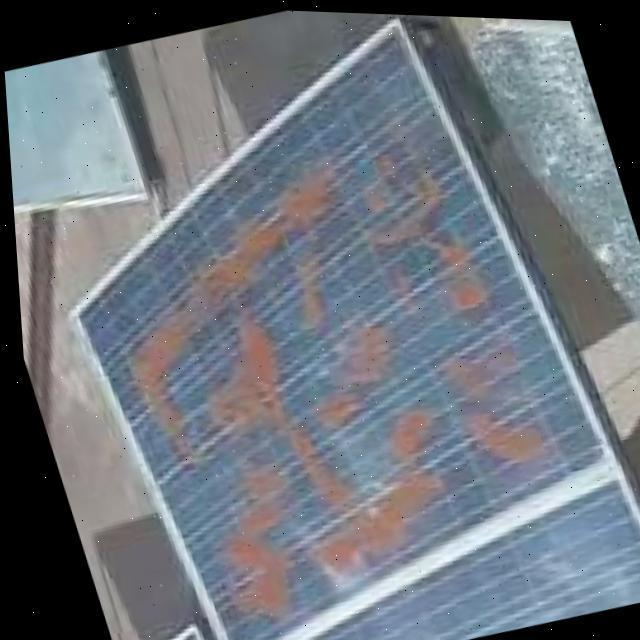Anomaly Solar Panel: (12, 18, 640, 640)
Snow: (501, 512, 638, 624), (372, 626, 438, 640)
Surface Contaminant: (91, 144, 400, 466), (163, 309, 347, 535), (329, 140, 494, 343), (293, 447, 447, 587), (427, 324, 553, 467), (206, 449, 293, 621), (297, 304, 397, 439), (366, 387, 441, 465)
